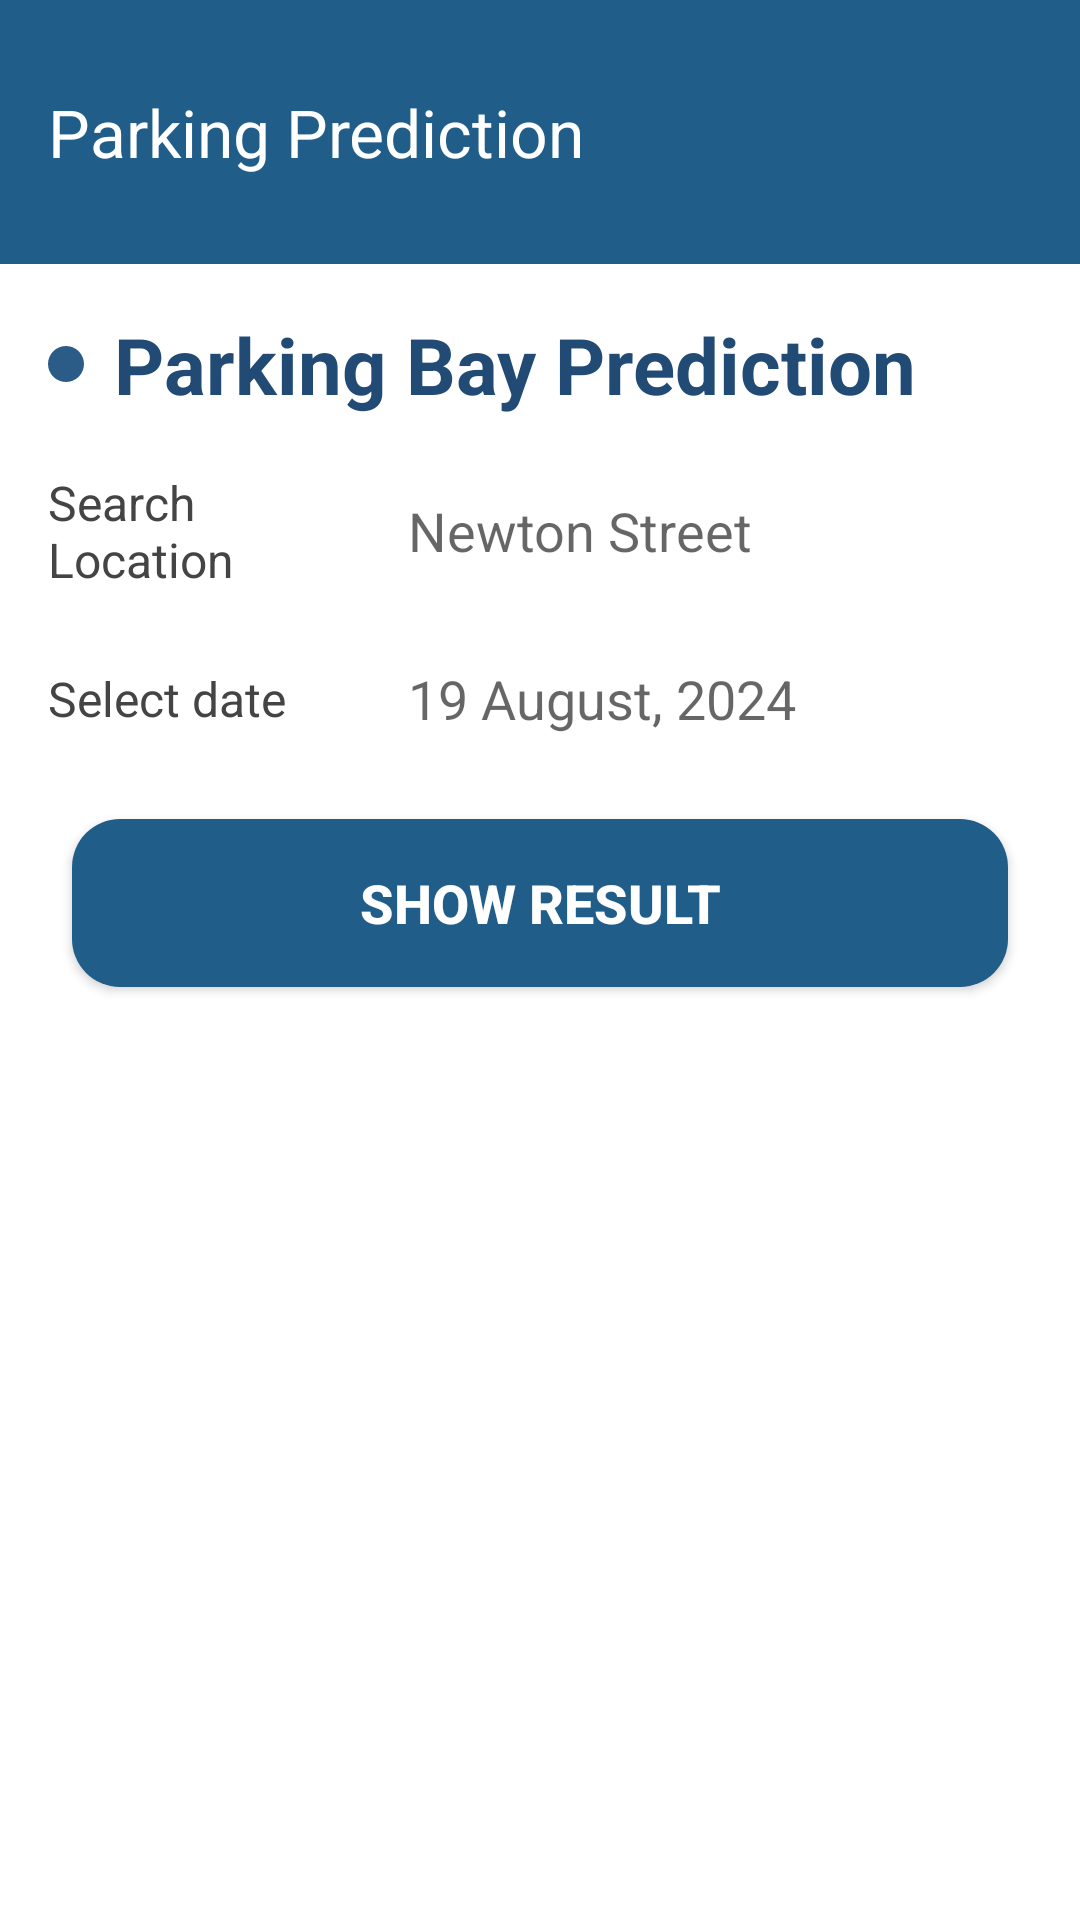

Icons on this 1080*1920 Android screen, each with its box as (x1, y1, x2, y2):
bullet dot: (48, 346, 84, 382)
